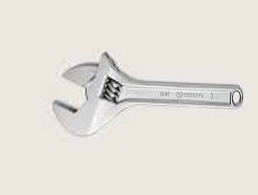Wrench: (55, 49, 256, 137)
